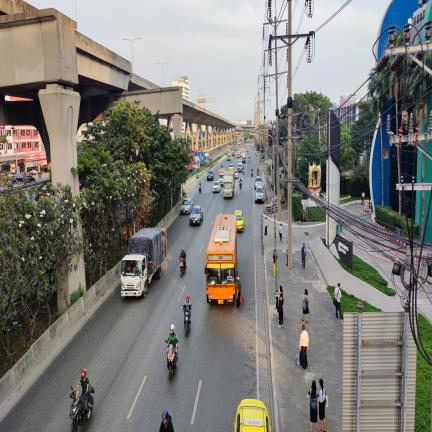bus: (205, 214, 237, 304)
car: (189, 206, 203, 225), (181, 198, 193, 214), (255, 185, 264, 203), (254, 176, 262, 190), (11, 175, 24, 183), (212, 181, 220, 193), (26, 175, 36, 183), (207, 170, 214, 181), (237, 161, 243, 172), (29, 169, 37, 175), (236, 152, 242, 159), (219, 175, 223, 185), (234, 171, 239, 178), (227, 154, 231, 161), (231, 151, 235, 157), (234, 147, 237, 151)
human: (75, 368, 90, 411), (307, 380, 318, 432), (166, 324, 178, 367), (299, 325, 309, 369), (318, 379, 326, 431), (159, 410, 174, 432), (334, 283, 342, 319), (302, 289, 309, 323), (183, 295, 191, 323), (278, 292, 284, 328), (275, 285, 283, 310), (236, 276, 242, 307), (179, 248, 186, 270), (301, 243, 306, 269), (273, 253, 277, 276), (264, 216, 268, 235), (126, 262, 132, 273), (279, 223, 282, 242), (361, 191, 365, 205), (249, 156, 250, 162)
motorbike: (69, 386, 95, 432), (166, 339, 176, 380), (184, 309, 190, 337), (179, 257, 186, 277), (199, 182, 202, 193), (239, 179, 242, 189), (242, 168, 244, 175), (251, 171, 253, 177)
taxi: (234, 399, 271, 432), (235, 210, 244, 231), (229, 161, 234, 170)
truck: (120, 228, 167, 297), (223, 170, 235, 198), (195, 152, 205, 166), (204, 152, 209, 163), (242, 151, 246, 163), (116, 271, 118, 276)
